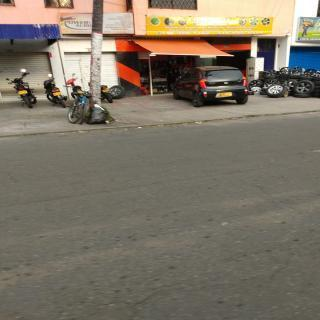Garbage: (85, 101, 115, 126)
